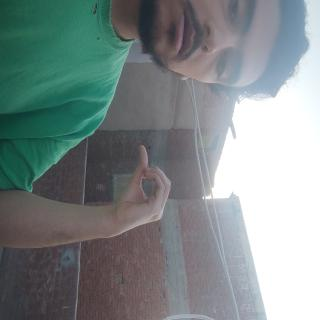WAW: (108, 194, 182, 282)
